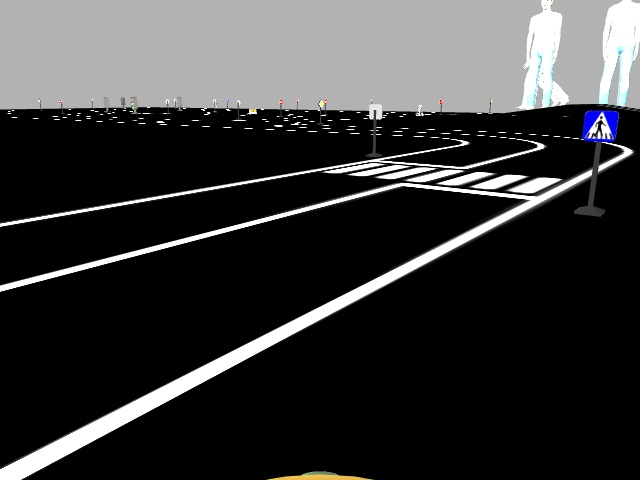Crosswalk: (586, 108, 617, 140)
